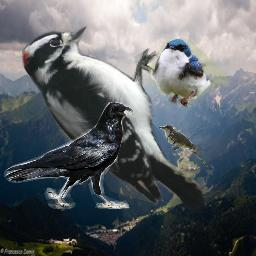Crow: (4, 102, 137, 209)
Cuckoo: (159, 125, 208, 167)
Swallow: (149, 38, 227, 107)
Woodpecker: (22, 26, 207, 213)
